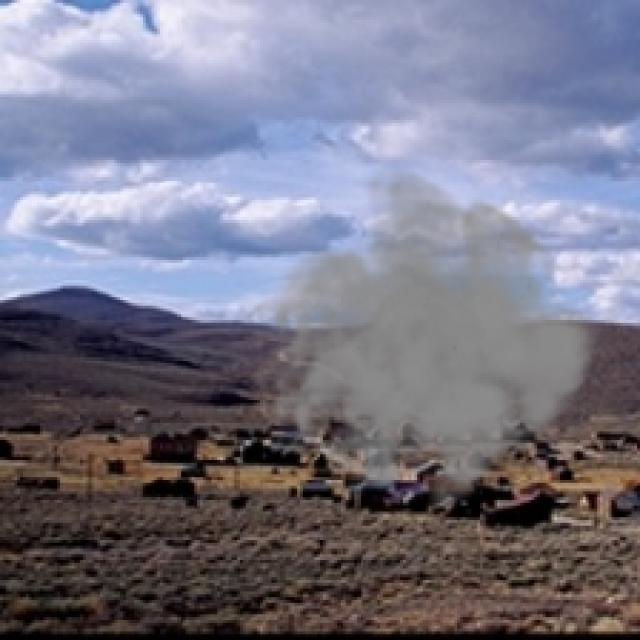Smoke: (248, 163, 603, 523)
